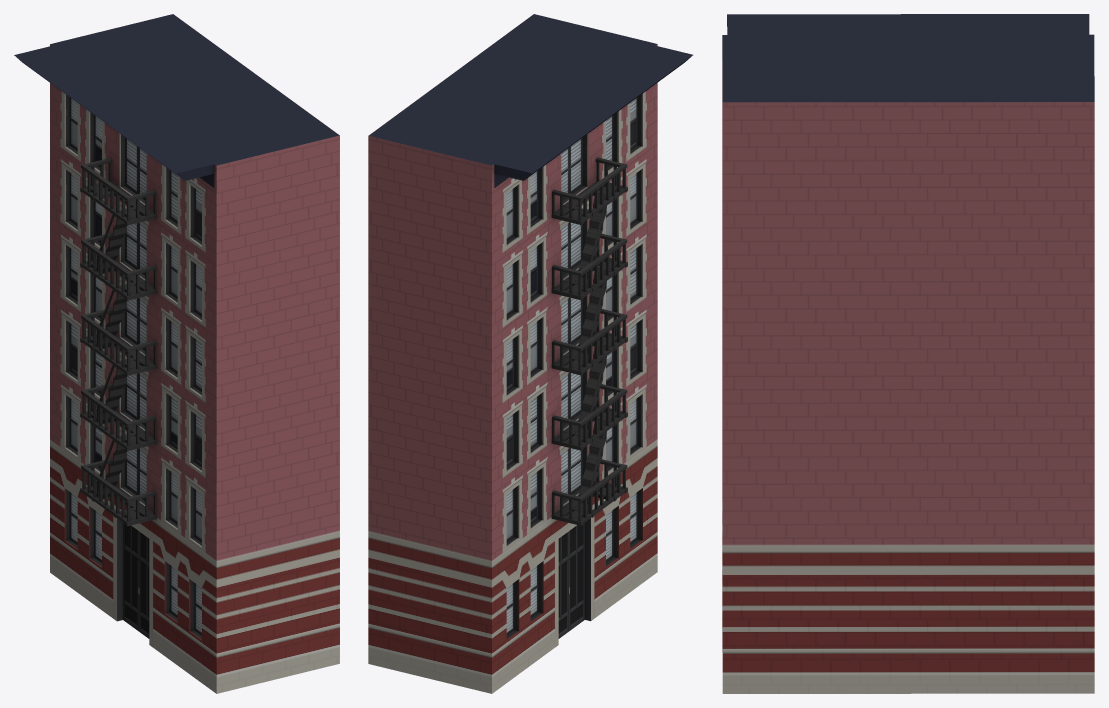
The model's file is apartment_mesh_lev3.glb.
3 views of the same model, side by side, from view 1: azimuth 30°, elevation 25°; view 2: azimuth 150°, elevation 25°; view 3: azimuth 270°, elevation 25° (orthographic). The views are drawn at different scales.
Parts seen in each view (by area): view 1: apartment_mesh_lev3; view 2: apartment_mesh_lev3; view 3: apartment_mesh_lev3.
Part boxes in pixels (x1,y1,x2,y2): apartment_mesh_lev3: [14, 14, 339, 693]; apartment_mesh_lev3: [368, 14, 692, 693]; apartment_mesh_lev3: [722, 14, 1094, 693].
Bounding box in the file's own units: 5.81 × 18.1 × 10.33.
Materials: 1 (1 with a texture image).
